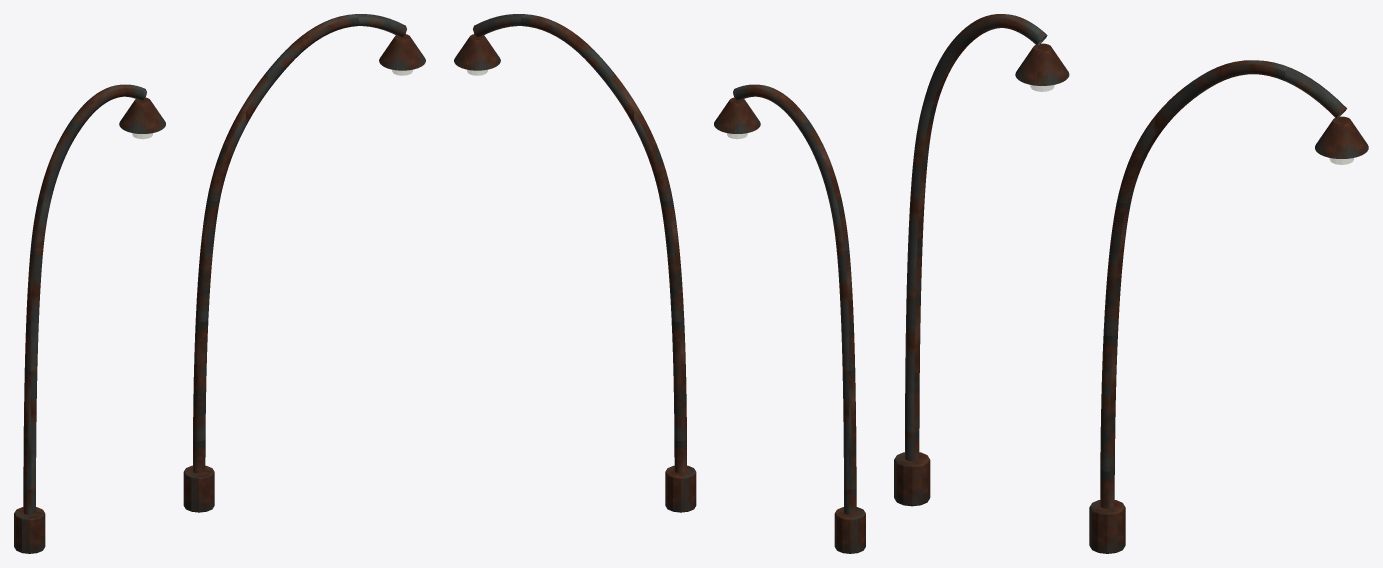
File: BR13_BentStreetLamp.glb
The picture shows the model from 3 angles, left to right: view 1: azimuth 30°, elevation 25°; view 2: azimuth 150°, elevation 25°; view 3: azimuth 330°, elevation 25°; orthographic projection. The views are drawn at different scales.
Parts seen in each view (by area): view 1: BR13_BentStreetLamp; view 2: BR13_BentStreetLamp; view 3: BR13_BentStreetLamp.
Boxes of the visible parts, left/top/right/bottom form: BR13_BentStreetLamp: left=14, top=14, right=425, bottom=553; BR13_BentStreetLamp: left=454, top=14, right=865, bottom=553; BR13_BentStreetLamp: left=894, top=14, right=1368, bottom=553.
Size of the model in its own units: 4.68 by 5 by 0.4675.
Materials: 2 (2 with a texture image).
